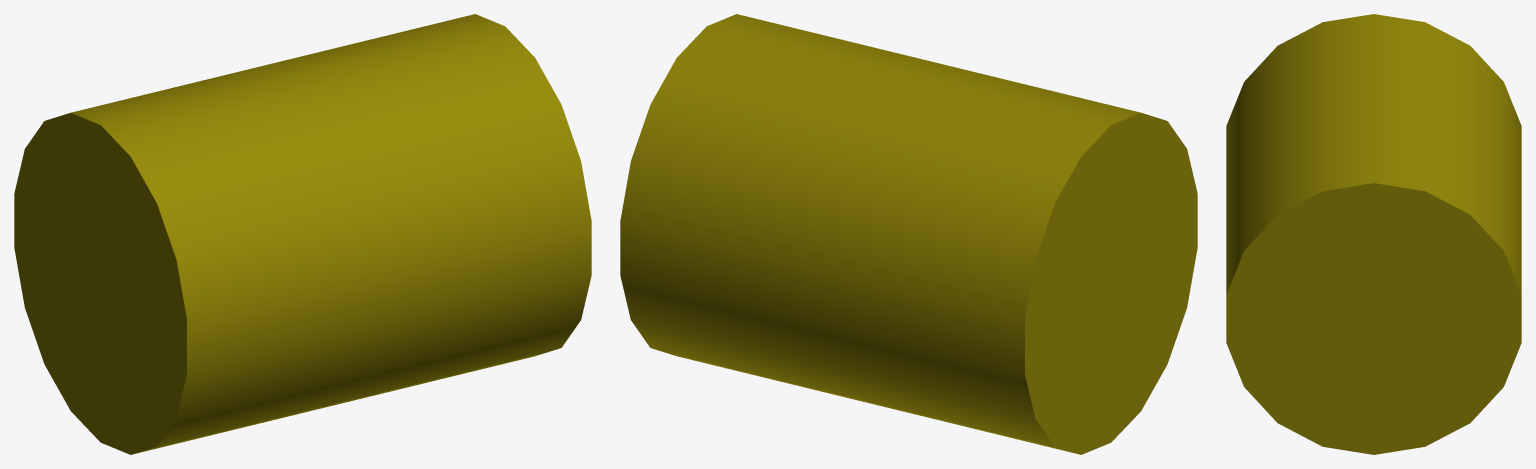
The model's file is HayBale.FBX.
The picture shows the model from 3 angles, left to right: view 1: azimuth 30°, elevation 25°; view 2: azimuth 150°, elevation 25°; view 3: azimuth 270°, elevation 25°; orthographic projection. The views are drawn at different scales.
Visible parts, largest first — view 1: Cylinder001; view 2: Cylinder001; view 3: Cylinder001.
Boxes of the visible parts, x1,y1,x2,y2 form: Cylinder001: [14, 14, 591, 454]; Cylinder001: [620, 14, 1197, 454]; Cylinder001: [1226, 14, 1521, 454].
Bounding box in the file's own units: 80 × 60 × 59.09.
